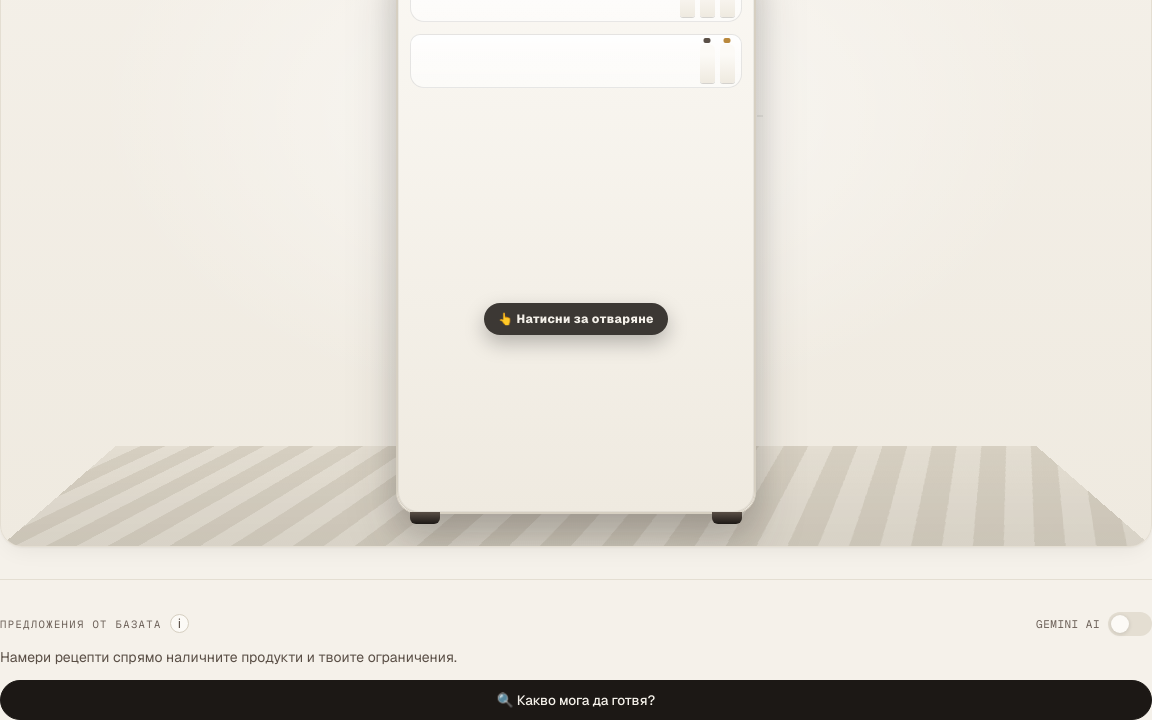
FridgeScreen – Try different suggestions button › does not show the button after non-Gemini search
(page scrolled)
Click the button "🔍 Какво мога да готвя?" at coordinates (576, 700), box [0, 680, 1151, 719]
(page scrolled)
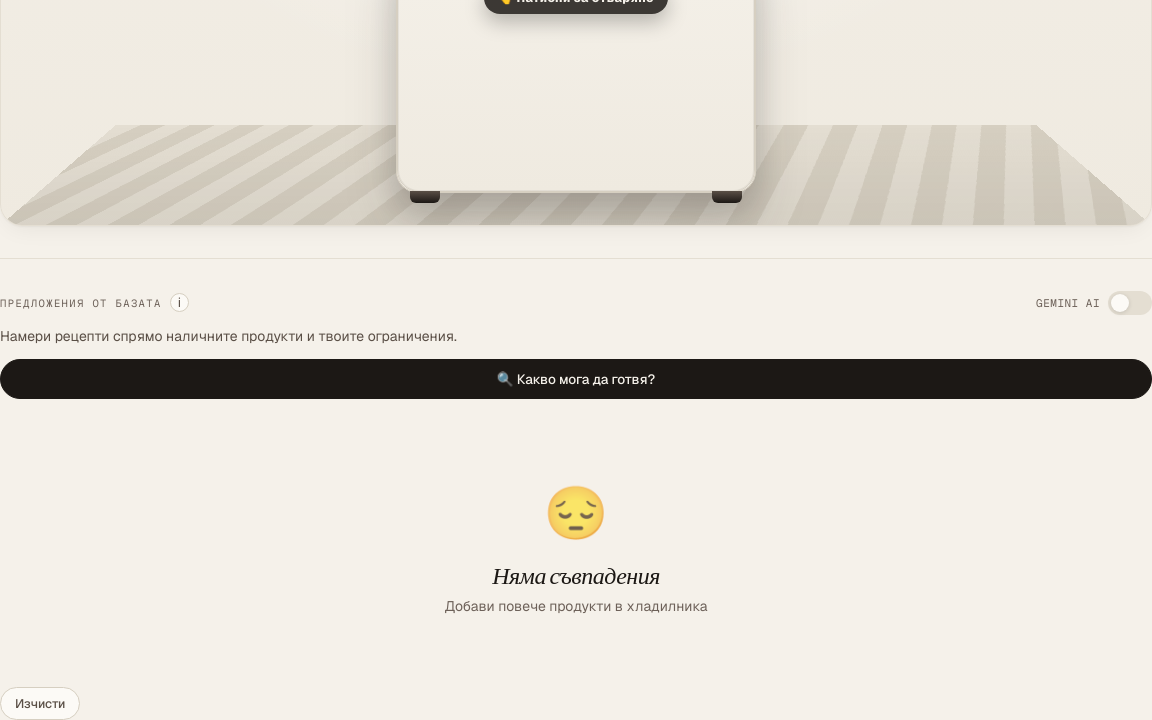
Expected: the text "Няма съвпадения" is shown, [492, 560, 660, 591]
